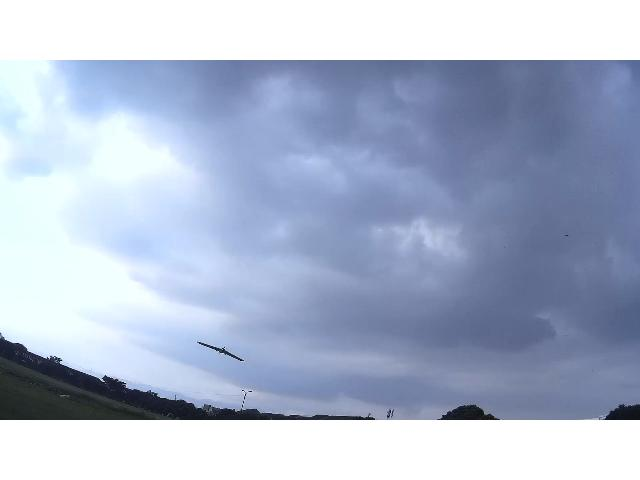Anti-Drone: (197, 343, 243, 362)
